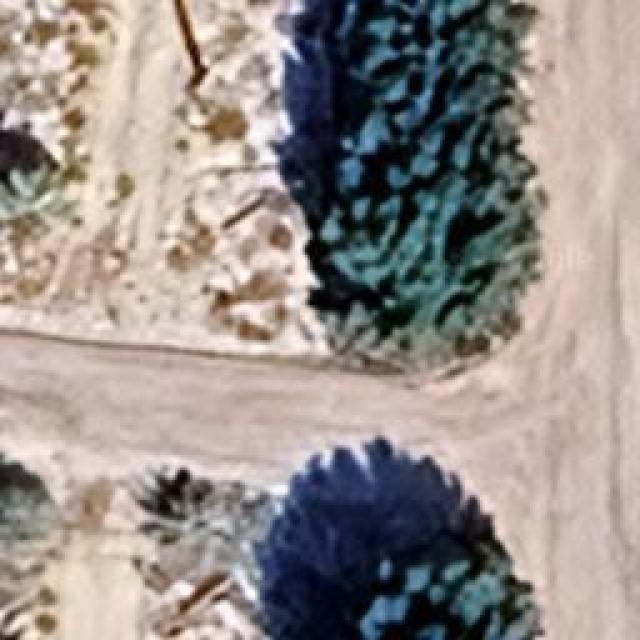PalmTree: (28, 120, 80, 508), (137, 460, 255, 578)
